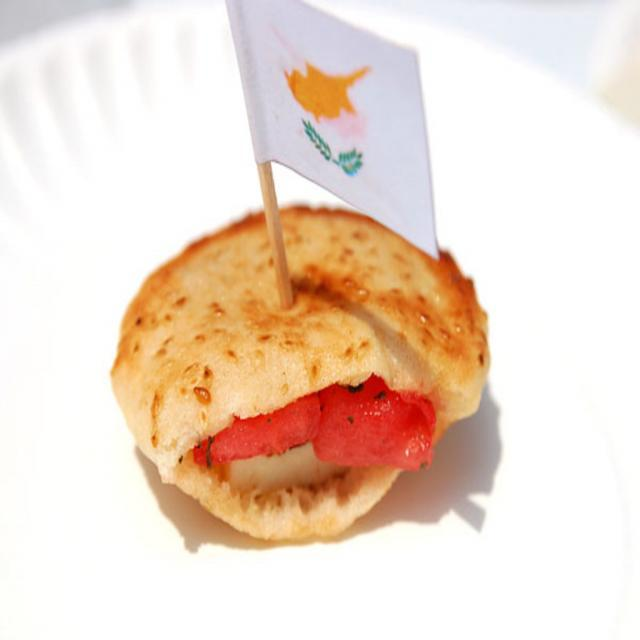Sandwich: (105, 202, 491, 543)
